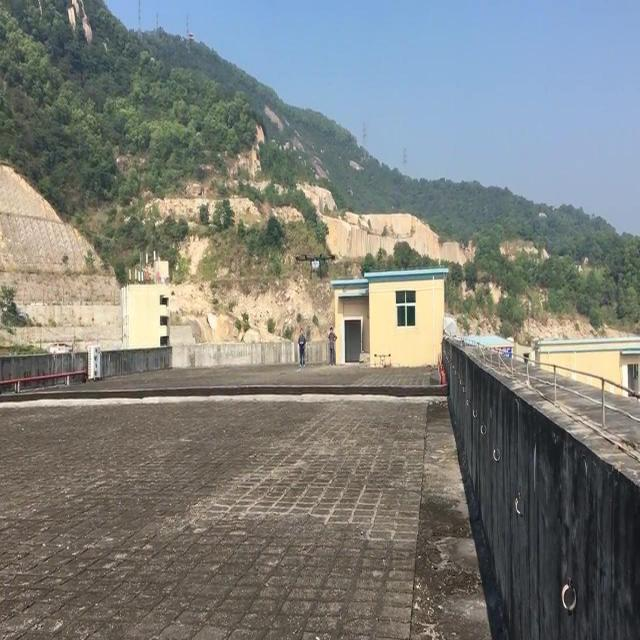UAV: (296, 253, 335, 279)
